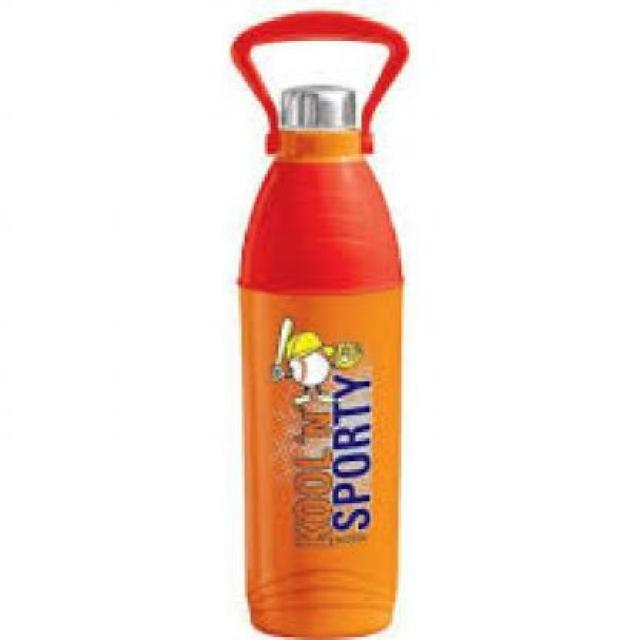Drinking: (233, 68, 427, 638)
